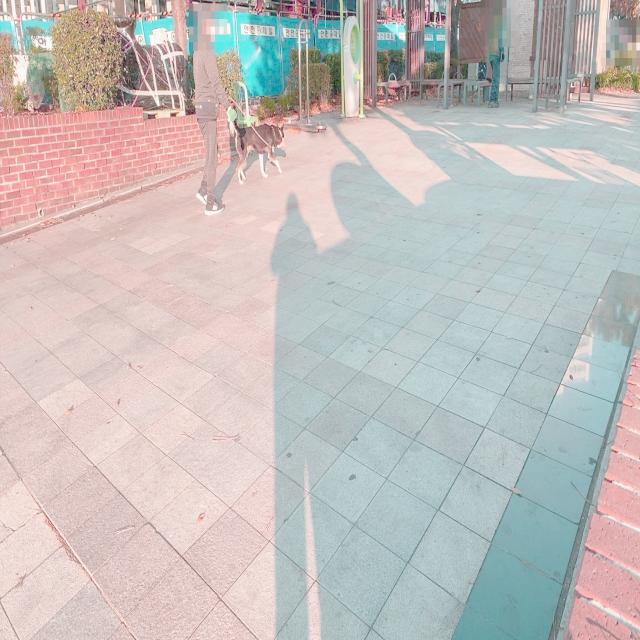Leashed_Dog: (205, 94, 285, 185)
